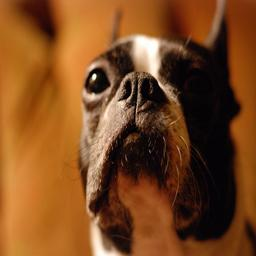dog: (128, 40, 256, 256)
